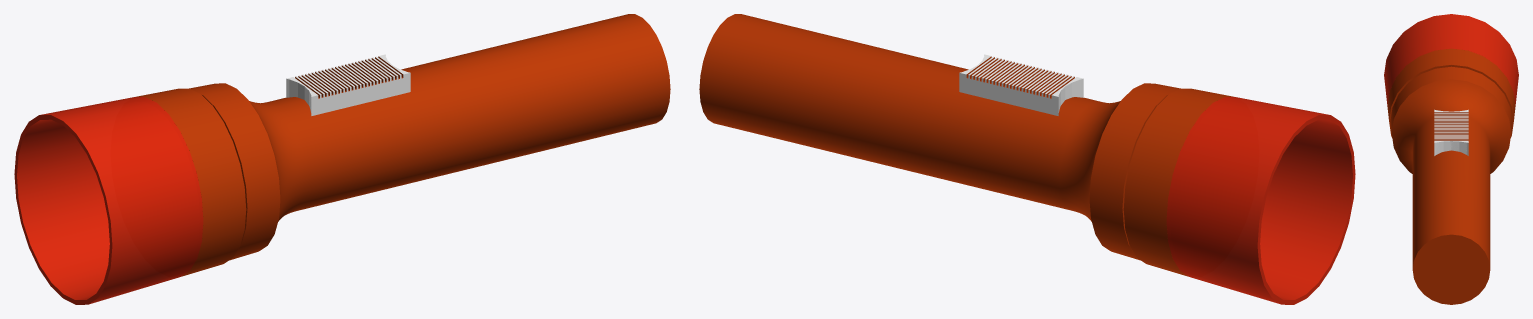
Rendered from Flashlight.fbx.
3 views of the same model, side by side, from view 1: azimuth 30°, elevation 25°; view 2: azimuth 150°, elevation 25°; view 3: azimuth 270°, elevation 25° (orthographic). The views are drawn at different scales.
Parts seen in each view (by area): view 1: Boole_4, Null_1, Boole, Boole_2, Boole_3; view 2: Boole_4, Null_1, Boole, Boole_2, Boole_3; view 3: Boole_4, Null_1, Boole, Boole_3.
Part boxes in pixels (left/top/right/bottom): Boole_4: left=136, top=14, right=670, bottom=276; Null_1: left=17, top=14, right=668, bottom=304; Boole: left=14, top=97, right=203, bottom=304; Boole_2: left=15, top=102, right=196, bottom=304; Boole_3: left=286, top=54, right=410, bottom=115; Boole_4: left=699, top=14, right=1233, bottom=271; Null_1: left=699, top=14, right=1353, bottom=304; Boole: left=1166, top=97, right=1355, bottom=304; Boole_2: left=1167, top=97, right=1354, bottom=301; Boole_3: left=959, top=54, right=1083, bottom=115; Boole_4: left=1387, top=48, right=1514, bottom=304; Null_1: left=1384, top=14, right=1518, bottom=258; Boole: left=1384, top=14, right=1518, bottom=105; Boole_3: left=1434, top=109, right=1468, bottom=155.
Bounding box in the file's own units: 521 × 153 × 153.
